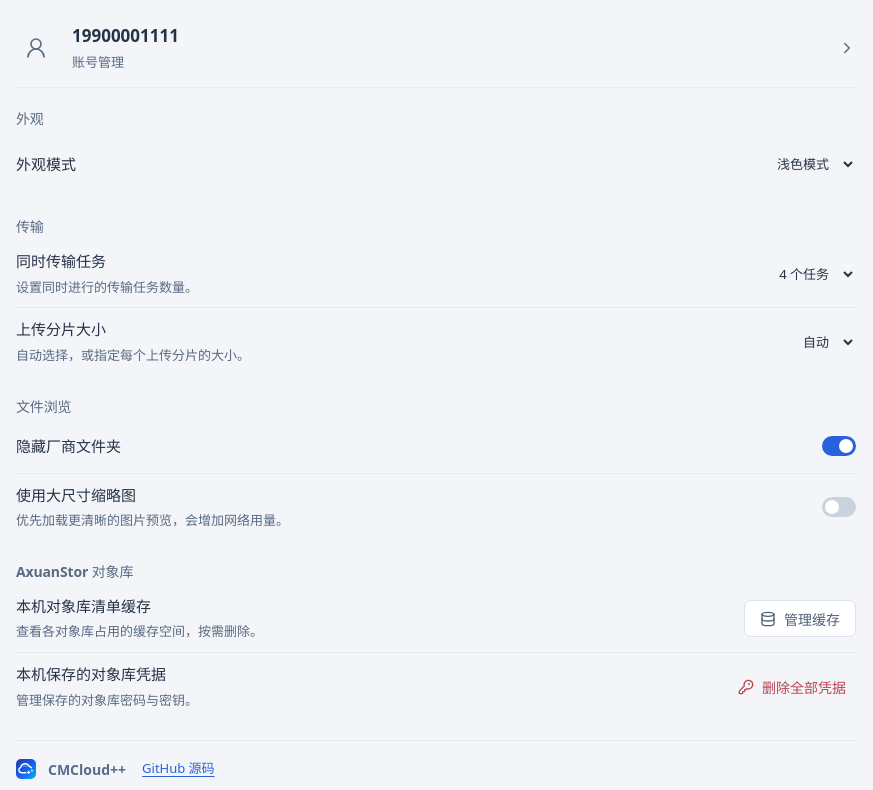
Test case: highlights only pending rows and becomes clean when changes are reverted
Select "6 个任务" in the dropdown named "同时传输任务数" at (803,274), box [750,252,856,296]
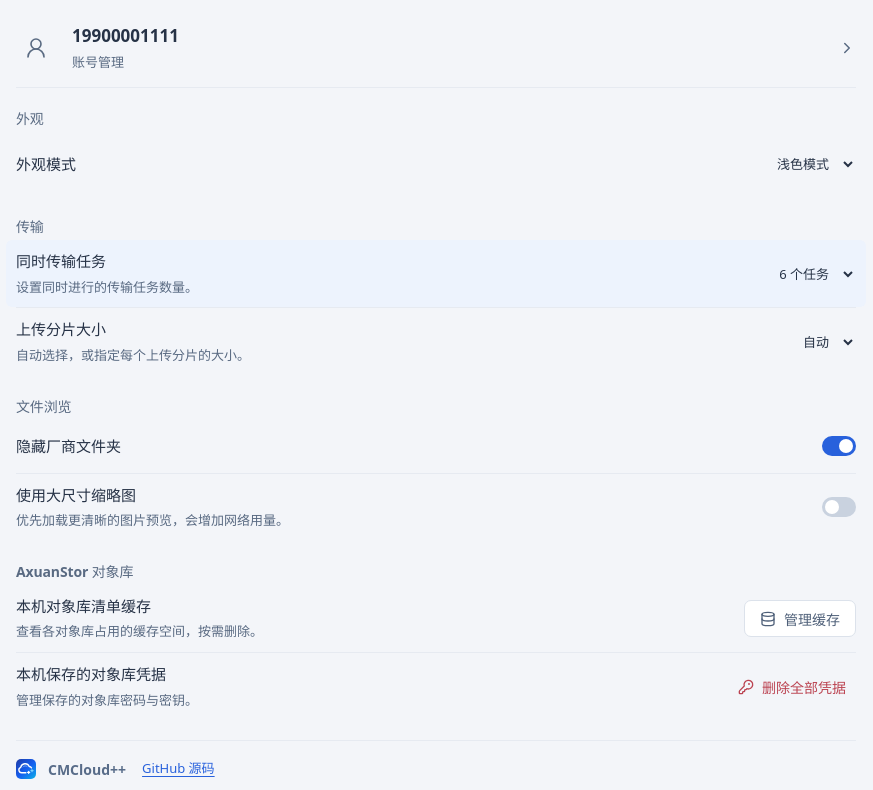
Check: the number of elements with class "is-modified" is 1, box [16,240,856,308]
Check: the element named "同时传输任务数" has class "is-modified", box [16,240,856,308]
Select "4 个任务" in the dropdown named "同时传输任务数" at (803,274), box [750,252,856,296]
(page scrolled)
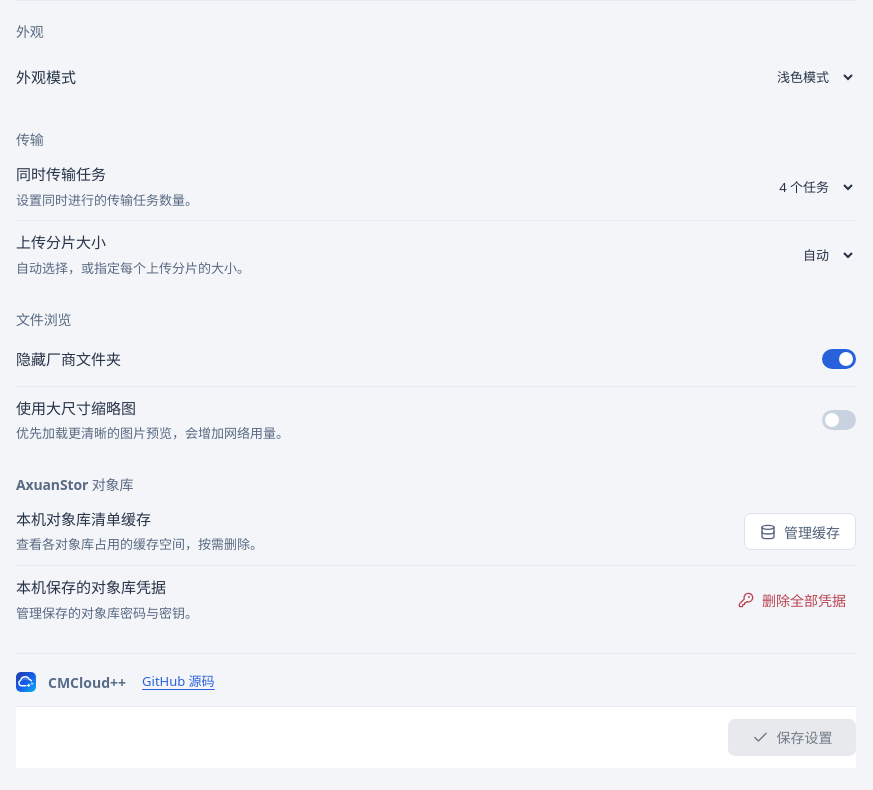
Check: the button "保存设置" is disabled, box [728,719,856,756]
